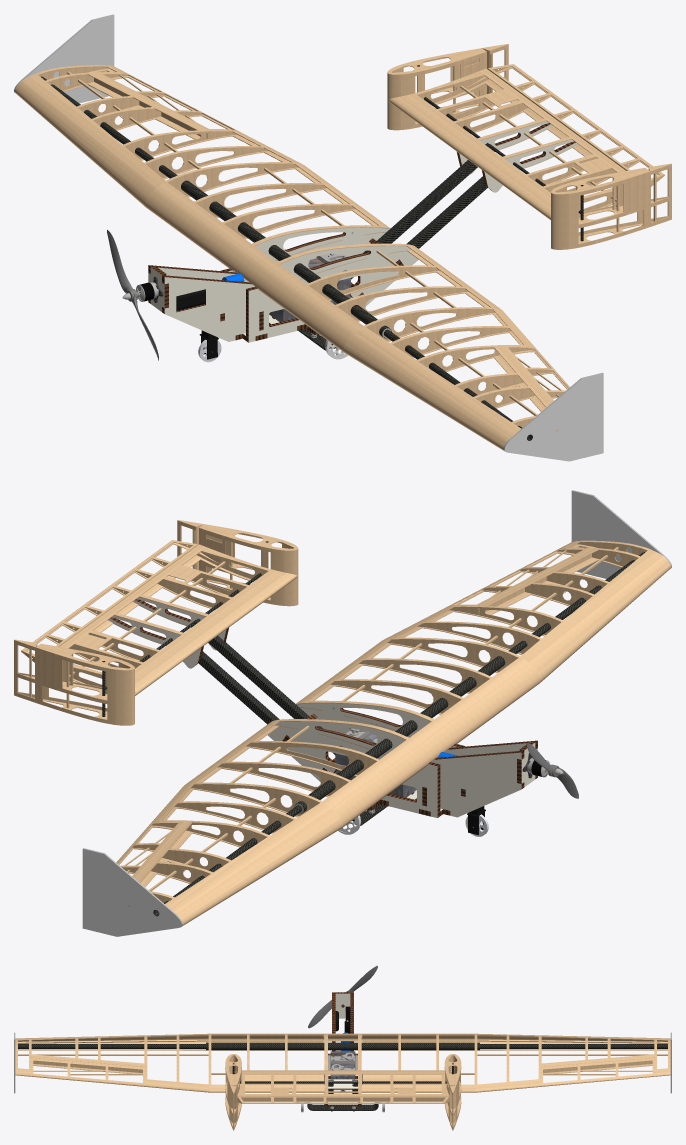
The model's file is AeronaveDB2023.glb.
The picture shows the model from 3 angles, top to bottom: view 1: azimuth 30°, elevation 25°; view 2: azimuth 150°, elevation 25°; view 3: azimuth 270°, elevation 25°; orthographic projection. The views are drawn at different scales.
Visible parts, largest first — view 1: Bordo At Sup, Nervuras Balsa (×2), End Plate, Capstrips Sup (×2), Chapeado EmpV (×2), Nervuras Honeycomb (×2), Lateral Bico, Chapeado At Sup, Lateral Caixa, Bordo Fu Sup, Tail Boom, Capstrips Inf (+12 smaller); view 2: Bordo At Sup, Nervuras Balsa (×2), End Plate, Capstrips Sup (×2), Chapeado EmpV (×2), Nervuras Honeycomb (×2), Lateral Bico, Chapeado At Sup, Lateral Caixa, Bordo Fu Sup, Tail Boom, Capstrips Inf (+12 smaller); view 3: Bordo At Sup, Bordo Fu Sup, Varetas (×2), Chapeado Aileron, Capstrips Sup (×2), Carbono Meio, Bordo At Inf, Carbono Ponta, Chapeado Profundor, Chapeado At Inf, Chapeado At Sup, Nervuras EmpV (×2) (+11 smaller).
Part boxes in pixels (x1,y1,x2,y2): Bordo At Sup: [15, 73, 521, 448]; Nervuras Balsa (×2): [39, 67, 616, 427]; End Plate: [14, 14, 603, 461]; Capstrips Sup (×2): [36, 65, 612, 423]; Chapeado EmpV (×2): [387, 48, 649, 249]; Nervuras Honeycomb (×2): [233, 121, 577, 307]; Lateral Bico: [148, 265, 253, 341]; Chapeado At Sup: [388, 93, 551, 219]; Lateral Caixa: [221, 232, 418, 342]; Bordo Fu Sup: [87, 65, 550, 407]; Tail Boom: [351, 143, 494, 279]; Capstrips Inf: [63, 69, 529, 408]; Bordo At Sup: [165, 549, 670, 924]; Nervuras Balsa (×2): [69, 542, 646, 902]; End Plate: [82, 490, 671, 936]; Capstrips Sup (×2): [73, 540, 648, 898]; Chapeado EmpV (×2): [36, 524, 298, 725]; Nervuras Honeycomb (×2): [108, 597, 452, 783]; Lateral Bico: [432, 740, 537, 817]; Chapeado At Sup: [134, 569, 297, 695]; Lateral Caixa: [267, 707, 465, 817]; Bordo Fu Sup: [136, 540, 598, 882]; Tail Boom: [191, 618, 335, 754]; Capstrips Inf: [157, 545, 622, 883]; Bordo At Sup: [15, 1033, 670, 1041]; Bordo Fu Sup: [15, 1054, 670, 1092]; Varetas (×2): [18, 1039, 667, 1092]; Chapeado Aileron: [30, 1057, 655, 1086]; Capstrips Sup (×2): [15, 1034, 670, 1093]; Carbono Meio: [206, 1042, 479, 1050]; Bordo At Inf: [18, 1041, 667, 1050]; Carbono Ponta: [18, 1044, 667, 1048]; Chapeado Profundor: [237, 1096, 449, 1103]; Chapeado At Inf: [241, 1074, 444, 1084]; Chapeado At Sup: [241, 1070, 444, 1074]; Nervuras EmpV (×2): [225, 1054, 460, 1115].
Size of the model in its own units: 1.32 by 0.4428 by 2.4.
Materials: 33 (10 with a texture image).
